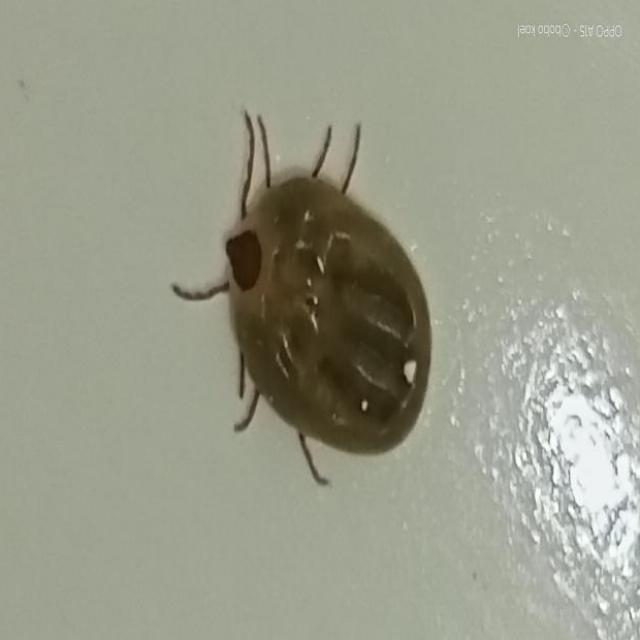Rhipicephalus Sanguineus-F-Fed: (172, 110, 433, 487)
